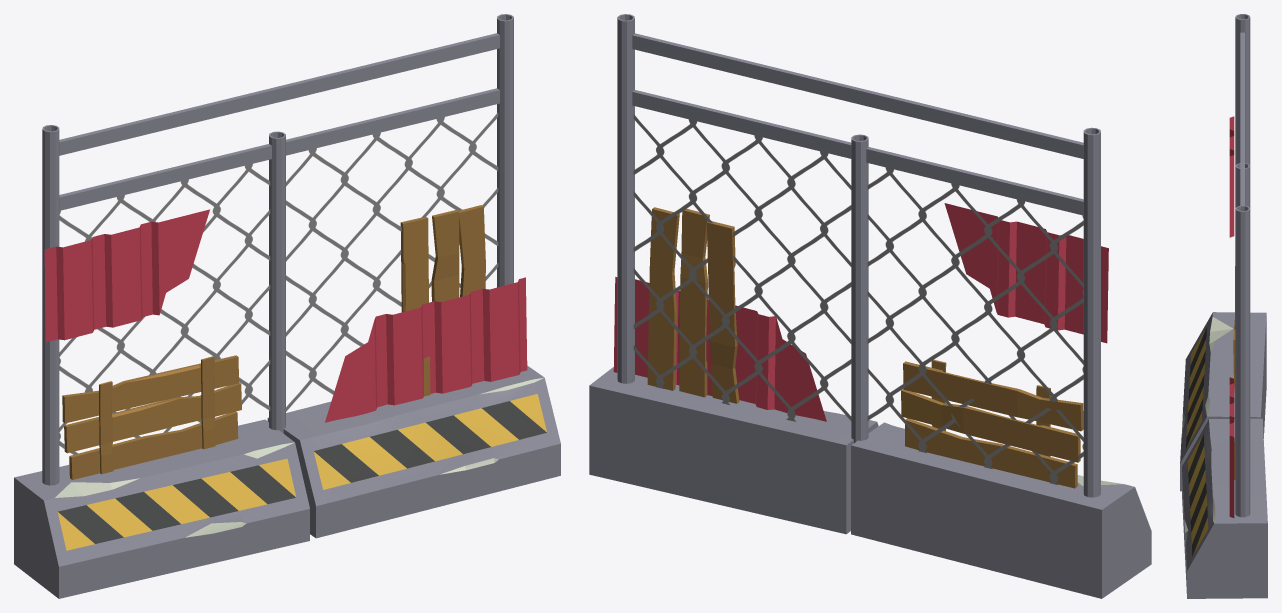
Rendered from quaternius-toon-shooter-game-barrier-fixed.glb.
3 renders of one model, left to right at view 1: azimuth 30°, elevation 25°; view 2: azimuth 150°, elevation 25°; view 3: azimuth 270°, elevation 25°, orthographic. The views are drawn at different scales.
Visible parts, largest first — view 1: Barrier_Fixed; view 2: Barrier_Fixed; view 3: Barrier_Fixed.
Boxes of the visible parts, x1,y1,x2,y2 form: Barrier_Fixed: [14, 14, 560, 598]; Barrier_Fixed: [589, 14, 1151, 598]; Barrier_Fixed: [1180, 14, 1267, 598].
Size of the model in its own units: 3.81 by 3.18 by 0.6664.
2 materials, 2 textured.
